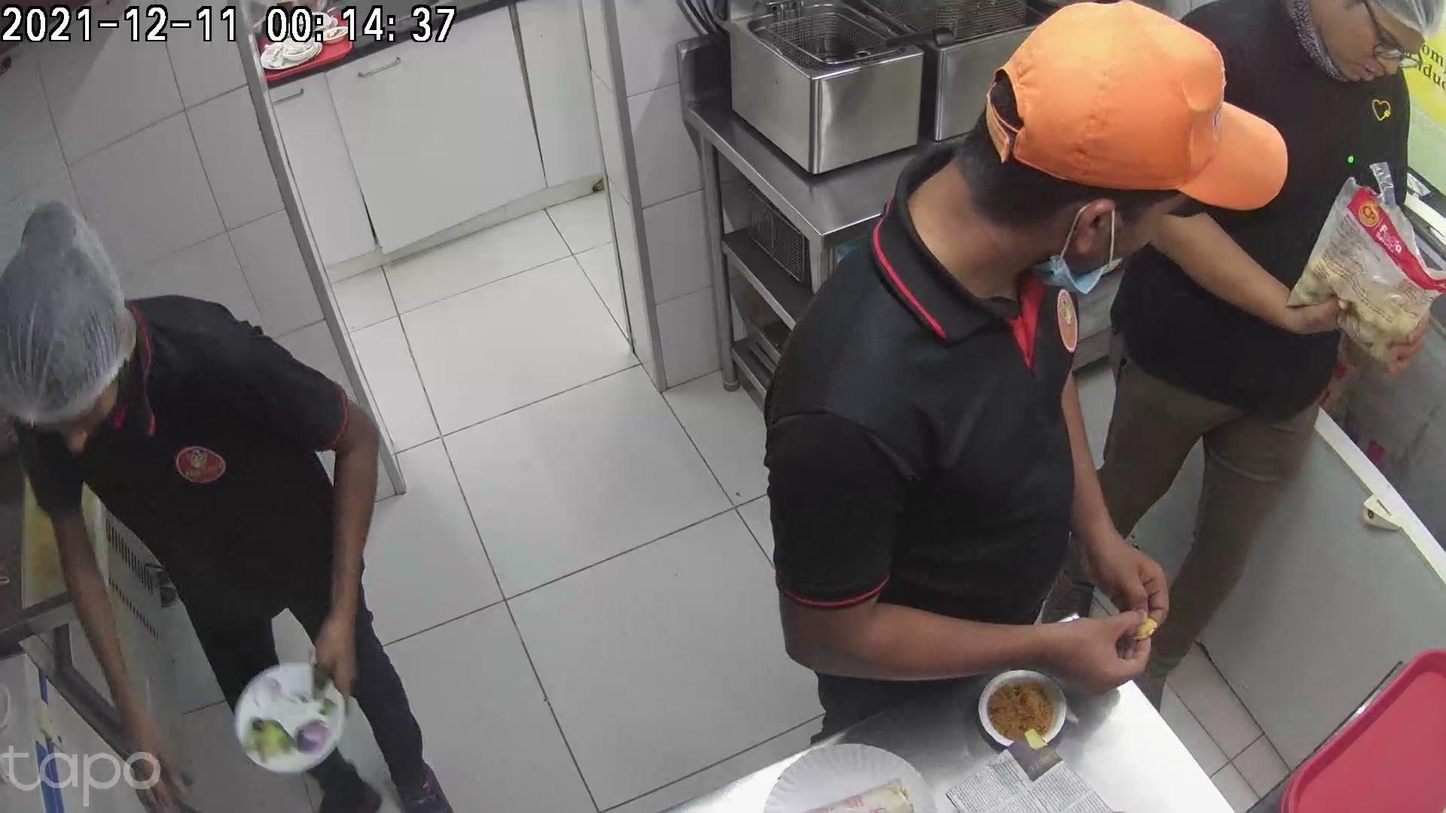gloves: (518, 516, 601, 654)
no_gloves: (946, 438, 1002, 551)
